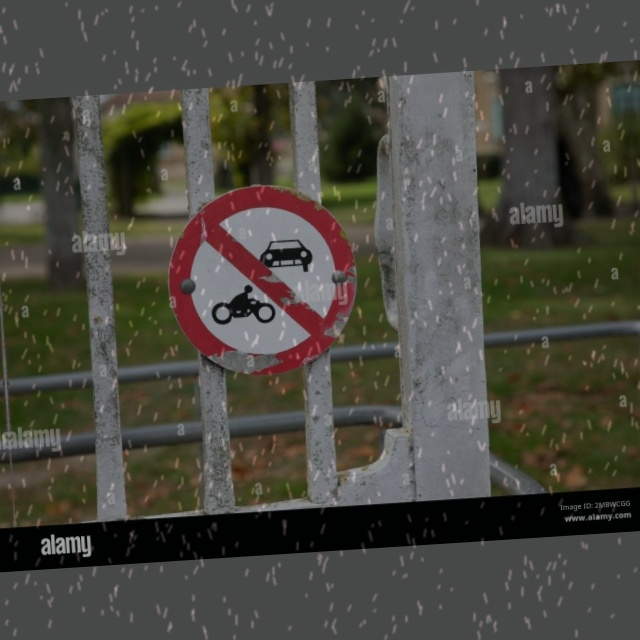All_Motor_Vehicles_Prohibited: (161, 183, 358, 383)
